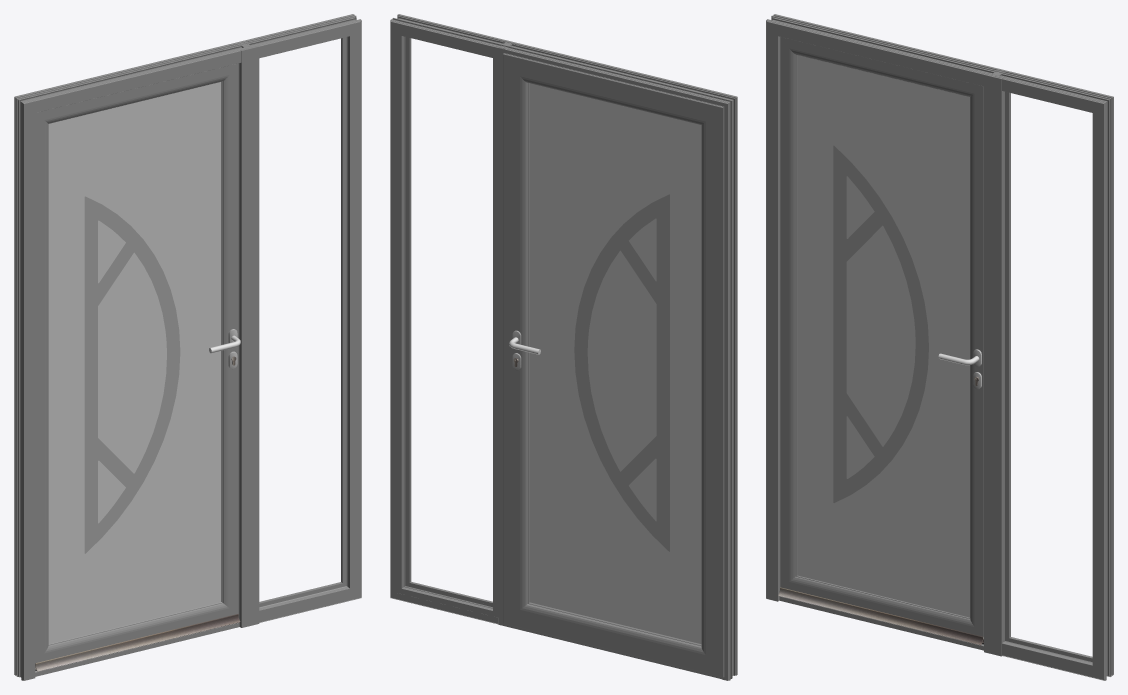
The picture shows the model from 3 angles, left to right: view 1: azimuth 30°, elevation 25°; view 2: azimuth 150°, elevation 25°; view 3: azimuth 330°, elevation 25°; orthographic projection.
Visible parts, largest first — view 1: fosco_29, aroFixo, aroMovel, montanteCentral, transparente_29, bite, borracha, escovas, rodaPe; view 2: fosco_29, aroMovel, aroFixo, transparente_29, bite, montanteCentral, borracha, rodaPe; view 3: fosco_29, aroFixo, aroMovel, montanteCentral, transparente_29, bite, escovas, borracha, rodaPe.
Boxes of the visible parts, x1,y1,x2,y2 form: fosco_29: [48, 82, 221, 643]; aroFixo: [14, 14, 361, 680]; aroMovel: [35, 63, 238, 663]; montanteCentral: [238, 42, 259, 627]; transparente_29: [84, 196, 180, 553]; bite: [259, 37, 346, 607]; borracha: [259, 37, 345, 606]; escovas: [35, 614, 240, 671]; rodaPe: [35, 622, 239, 676]; fosco_29: [529, 83, 701, 644]; aroMovel: [503, 53, 724, 677]; aroFixo: [390, 14, 737, 680]; transparente_29: [574, 194, 669, 551]; bite: [396, 29, 498, 617]; montanteCentral: [498, 40, 518, 626]; borracha: [404, 36, 492, 608]; rodaPe: [505, 624, 721, 679]; fosco_29: [797, 55, 969, 617]; aroFixo: [766, 14, 1113, 680]; aroMovel: [780, 37, 983, 638]; montanteCentral: [984, 70, 1004, 656]; transparente_29: [833, 145, 928, 502]; bite: [1005, 91, 1092, 661]; escovas: [778, 587, 983, 645]; borracha: [1006, 92, 1092, 660]; rodaPe: [779, 596, 983, 650].
Size of the model in its own units: 1320 by 2149 by 185.
Materials: 10 (4 with a texture image).
